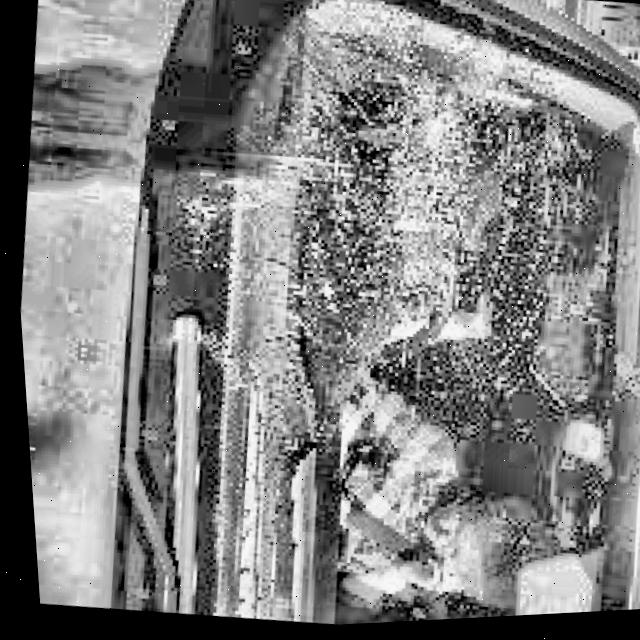glass_shatter: (257, 39, 529, 327)
